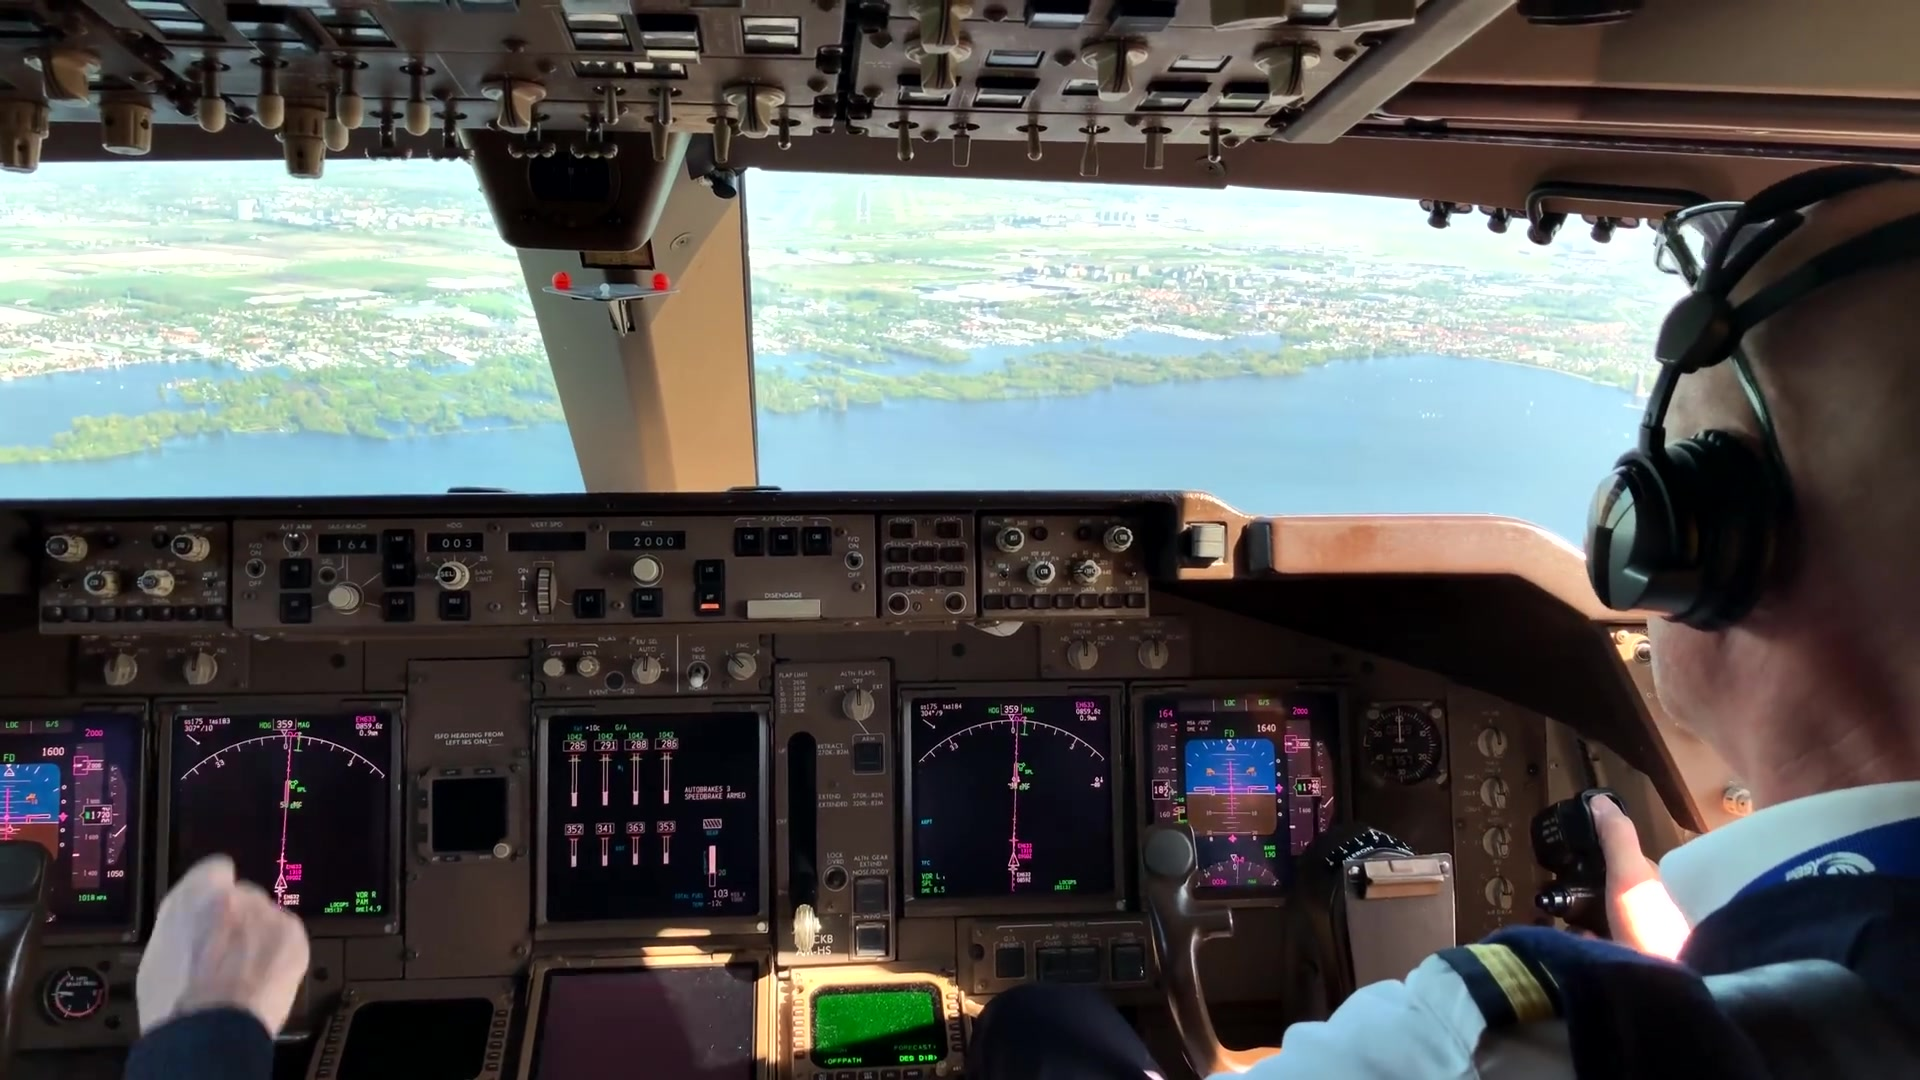runway: (855, 193, 872, 225)
